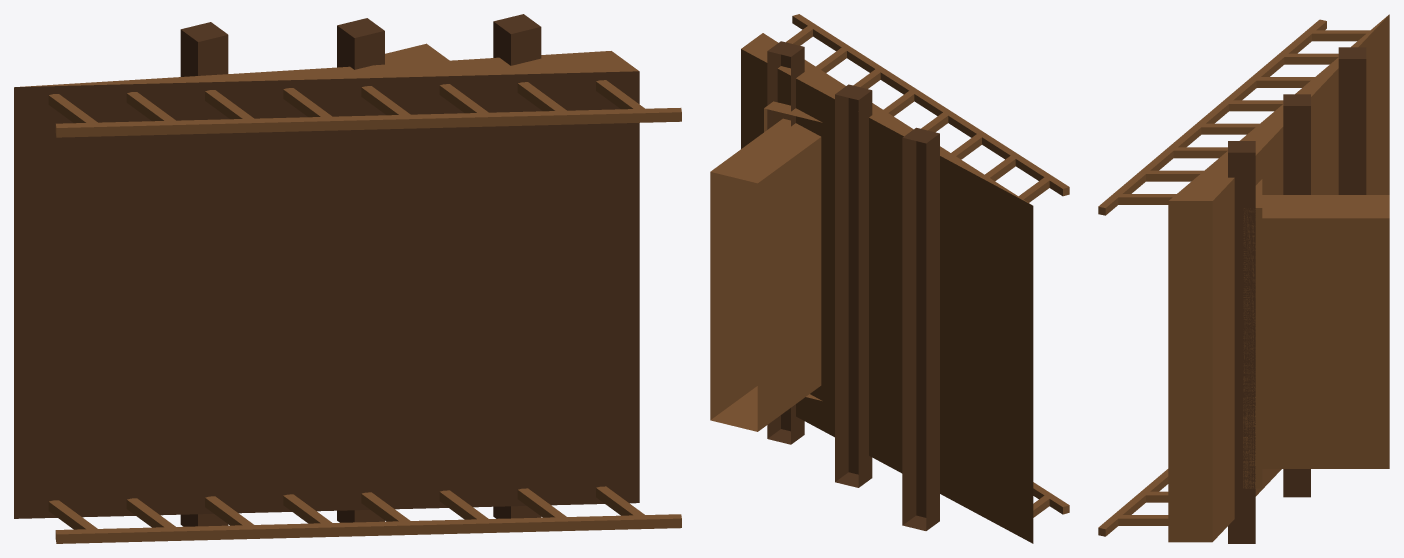
The model's file is ramp.glb.
3 renders of one model, left to right at view 1: azimuth 30°, elevation 25°; view 2: azimuth 150°, elevation 25°; view 3: azimuth 270°, elevation 25°, orthographic. The views are drawn at different scales.
Visible parts, largest first — view 1: bridge_00_ramp; view 2: bridge_00_ramp; view 3: bridge_00_ramp.
Boxes of the visible parts, <box> form: bridge_00_ramp: <box>14,14,681,543</box>; bridge_00_ramp: <box>710,14,1069,543</box>; bridge_00_ramp: <box>1098,14,1389,543</box>.
Bounding box in the file's own units: 16.13 × 15.6 × 10.53.
